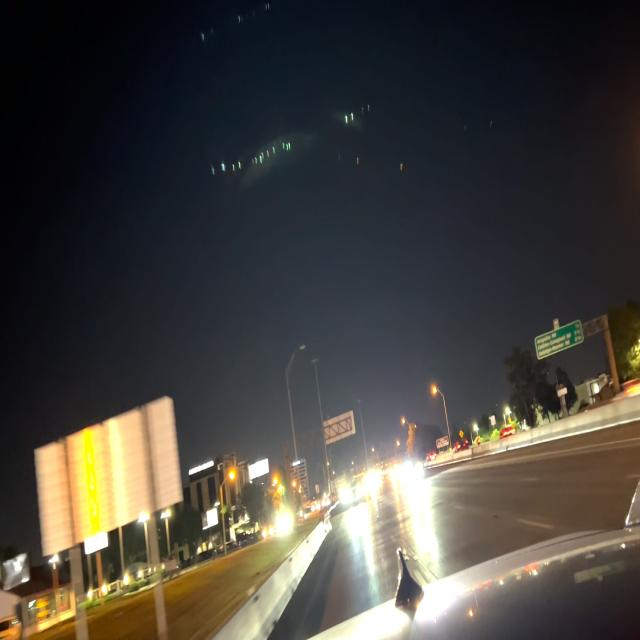back-of-sign: (33, 399, 185, 554)
